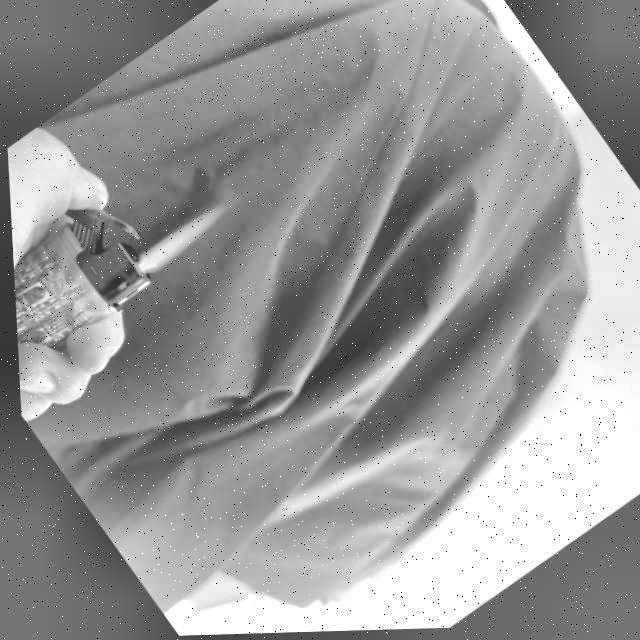Fire: (133, 202, 227, 276)
